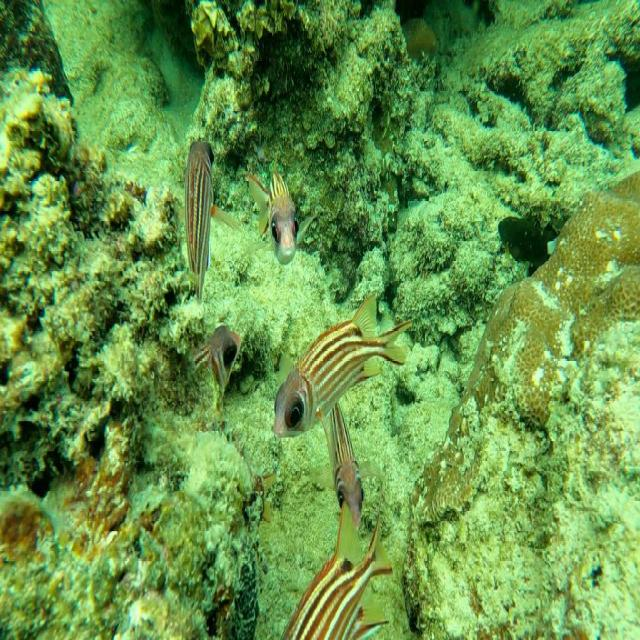Asker Baligi: (268, 284, 412, 450), (175, 114, 228, 316), (244, 136, 313, 273)
